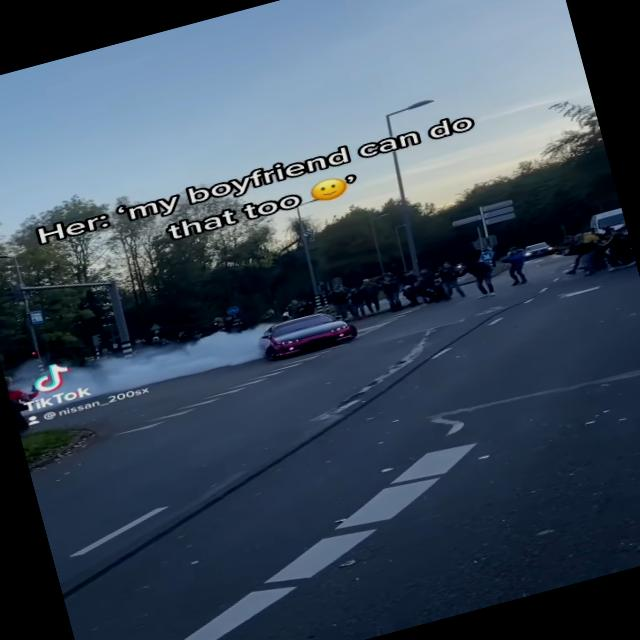car: (254, 299, 362, 370)
